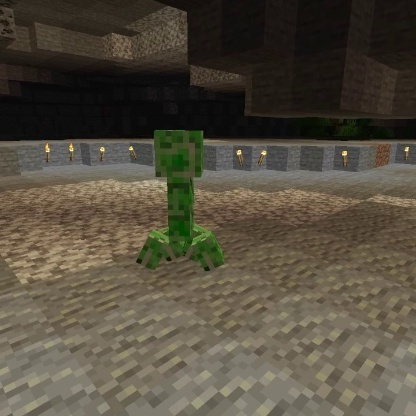creeper: (132, 125, 229, 275)
